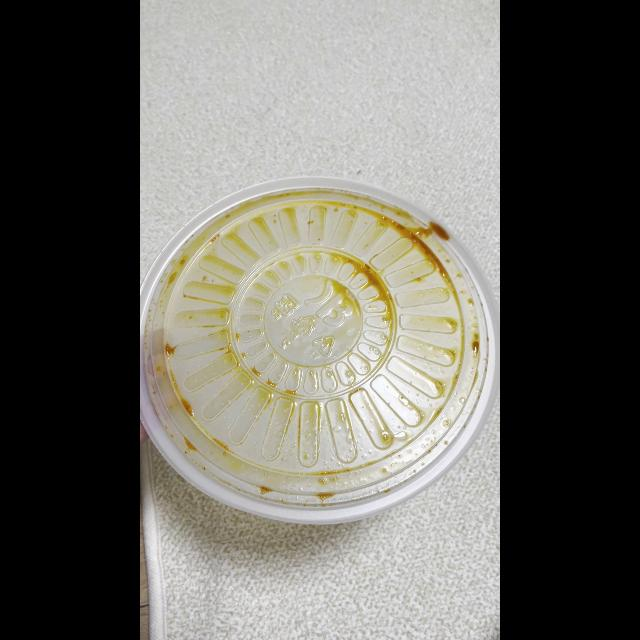dirty: (142, 178, 492, 512)
